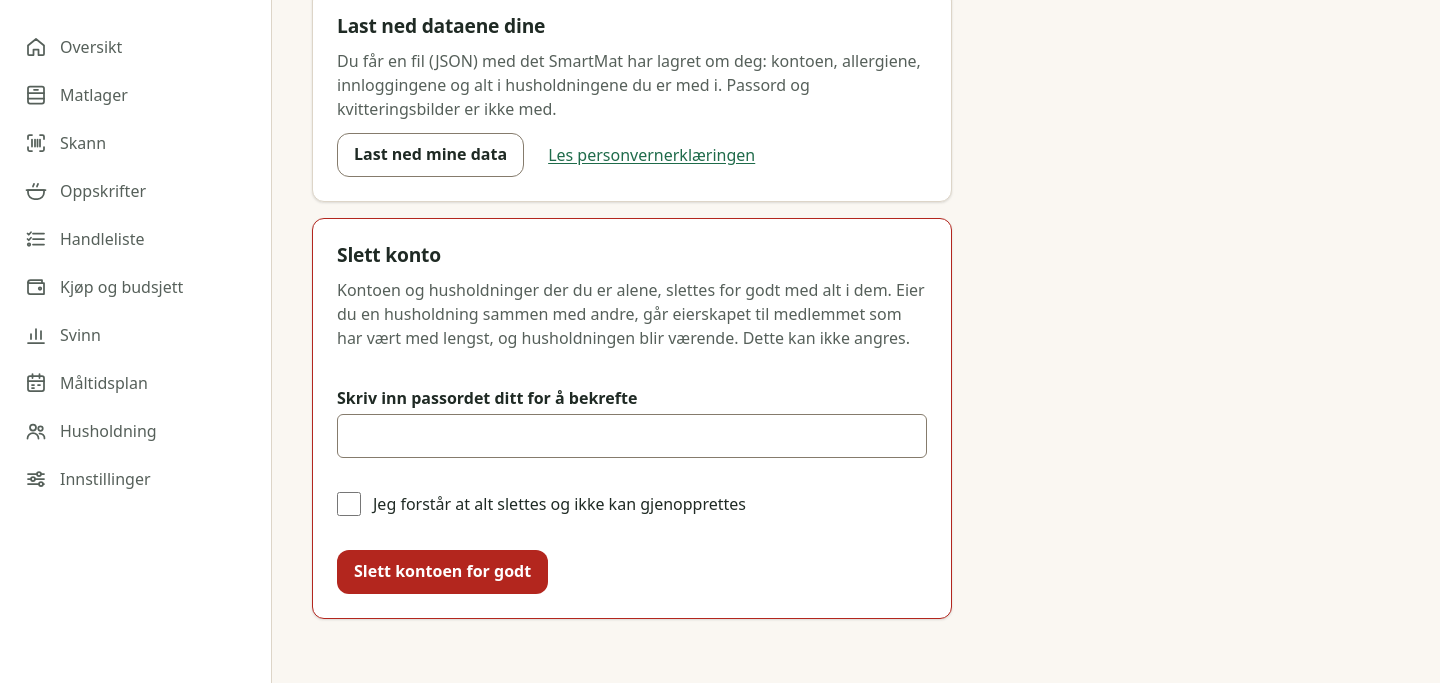
Test: FR-AUTH-005 delete account › deletes, forgets the session and goes to the login page
(page scrolled)
In the password field labelled "Skriv inn passordet ditt for å bekrefte": {"x": 632, "y": 436} [337,414,927,458], type "riktig hest batteri"
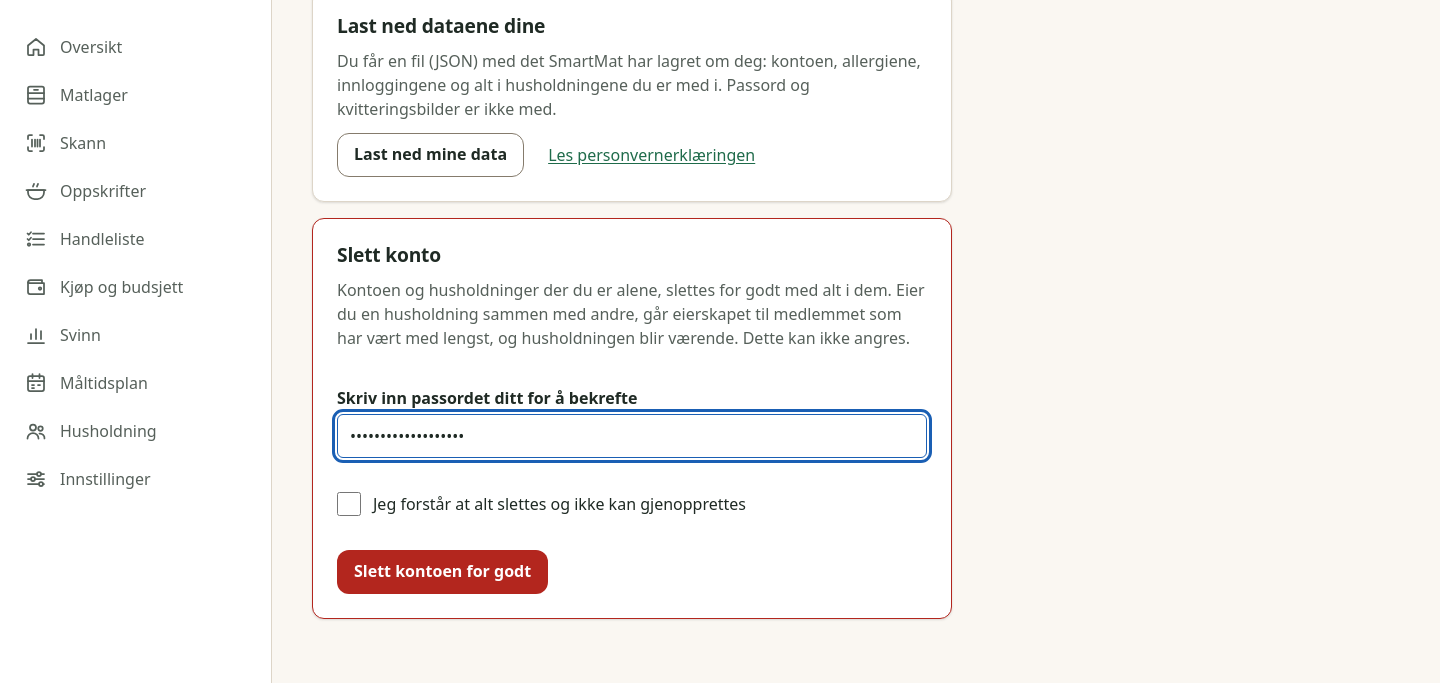
Click the checkbox labelled "Jeg forstår at alt slettes og ikke kan gjenopprettes": {"x": 349, "y": 504} [337,492,361,516]
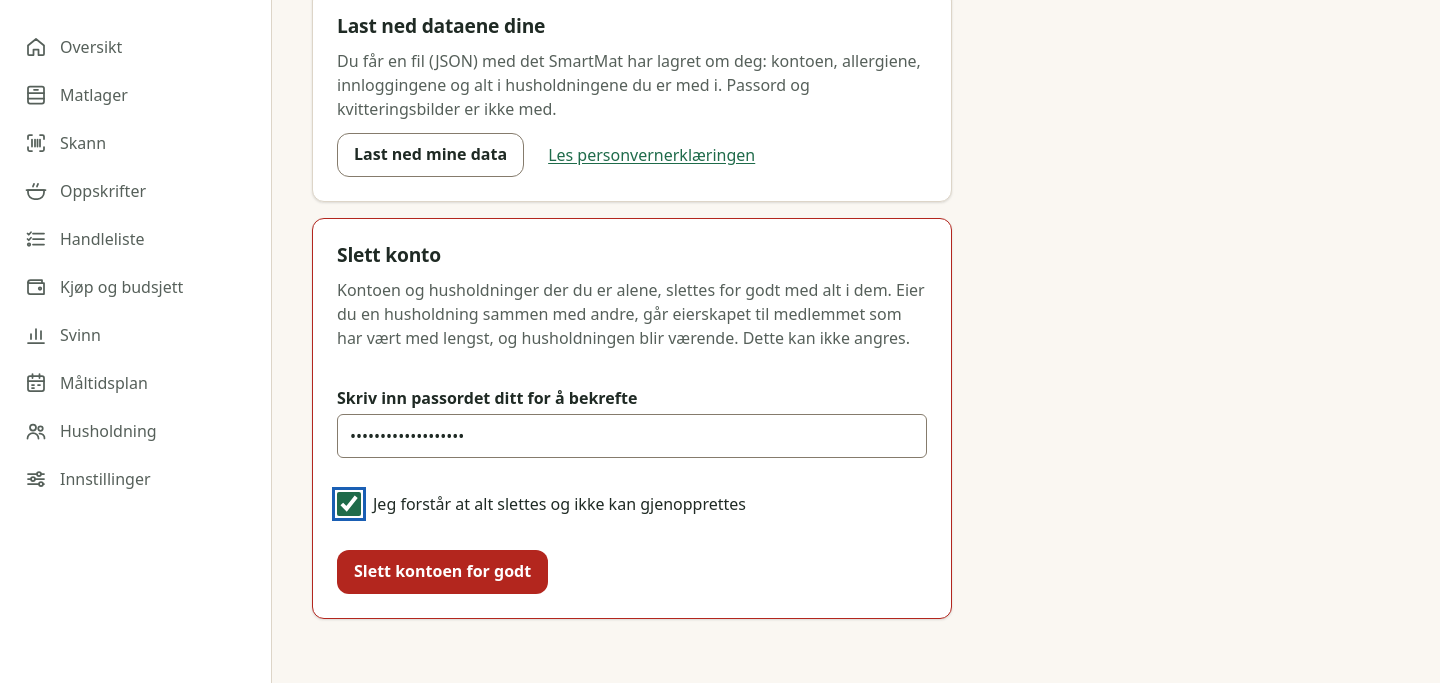
Click the button "Slett kontoen for godt": {"x": 443, "y": 572} [337,550,548,594]
(page scrolled)
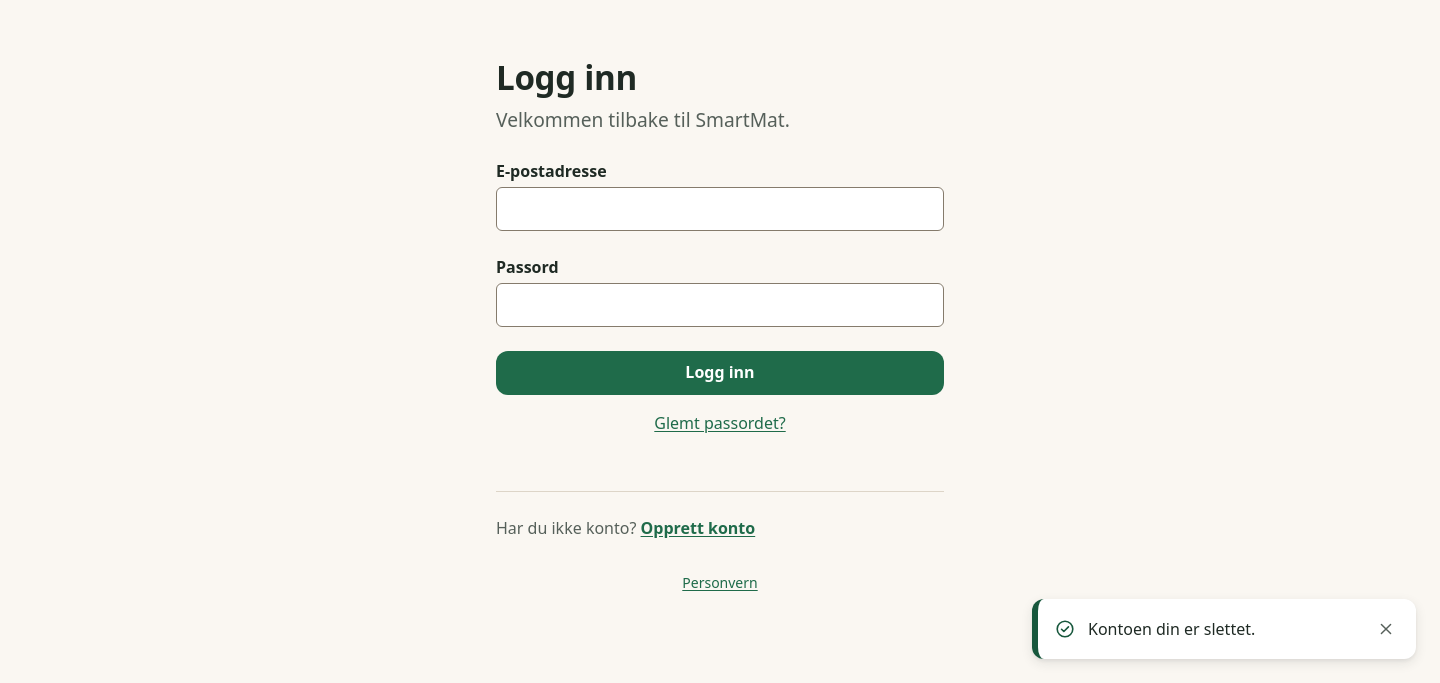
Expected: the heading "Logg inn" is shown, [496,58,637,98]
Expected: the text "Kontoen din er slettet." is shown, [1087,617,1255,640]
